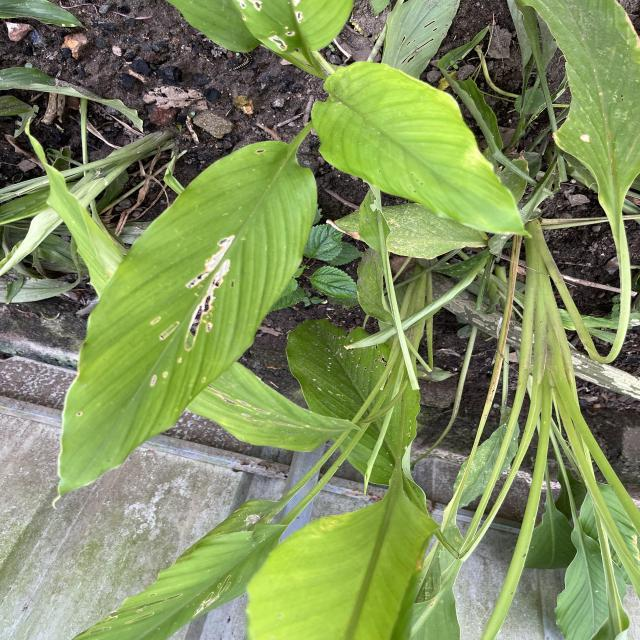Curcuma longa: (47, 137, 320, 515)
